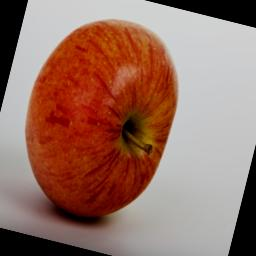Apple Overripe: (0, 0, 194, 245)
